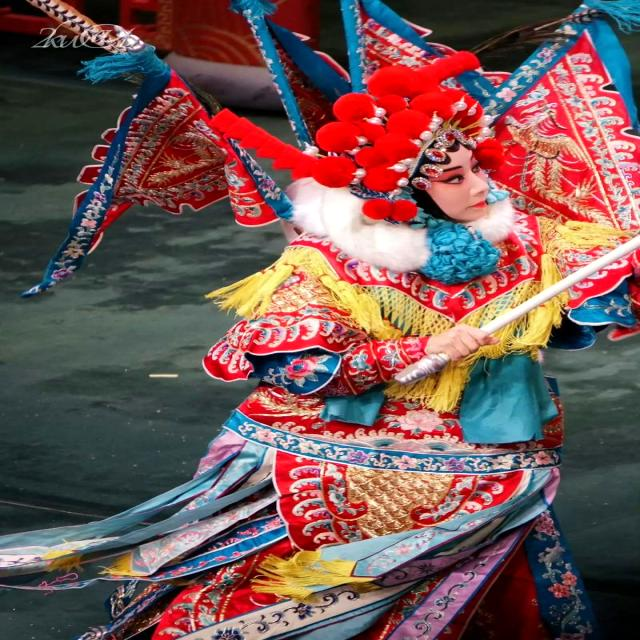Reeves-s Pheasant: (26, 0, 149, 54)
